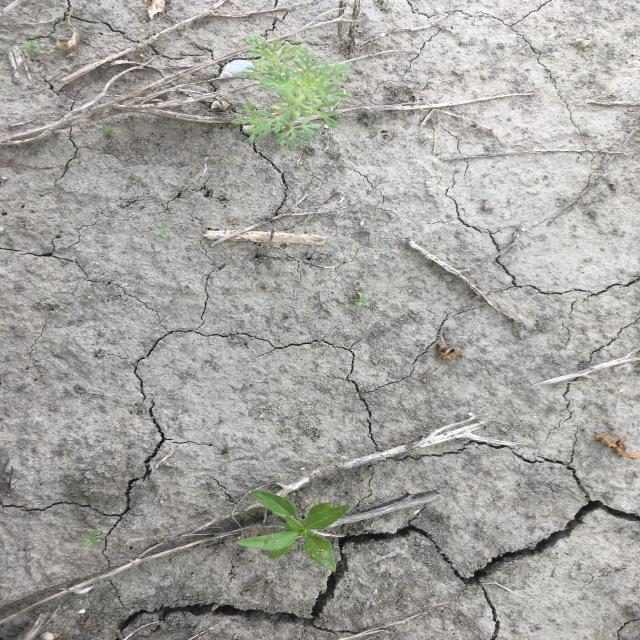Eclipta: (234, 489, 352, 574)
Ragweed: (228, 34, 356, 152)
